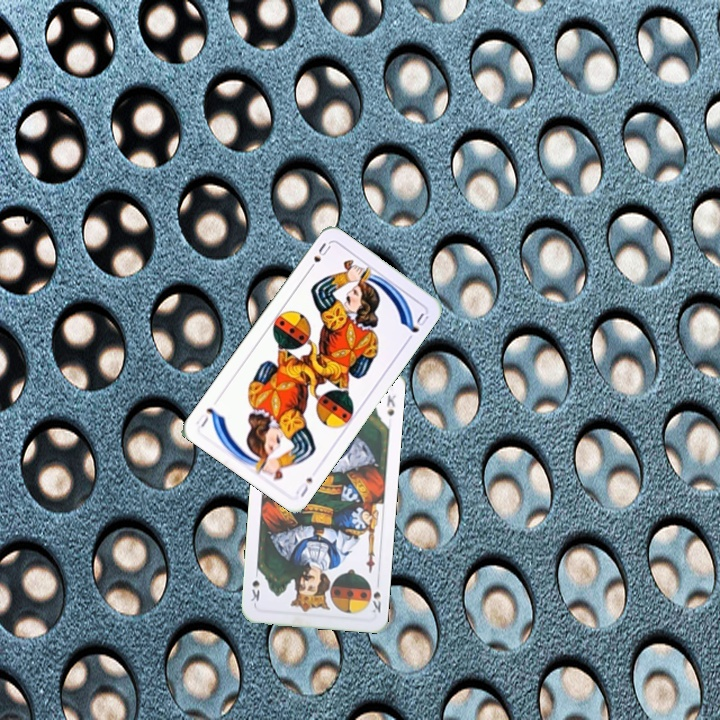SK: (368, 587, 383, 615)
SU: (303, 239, 333, 275), (292, 473, 315, 500)
